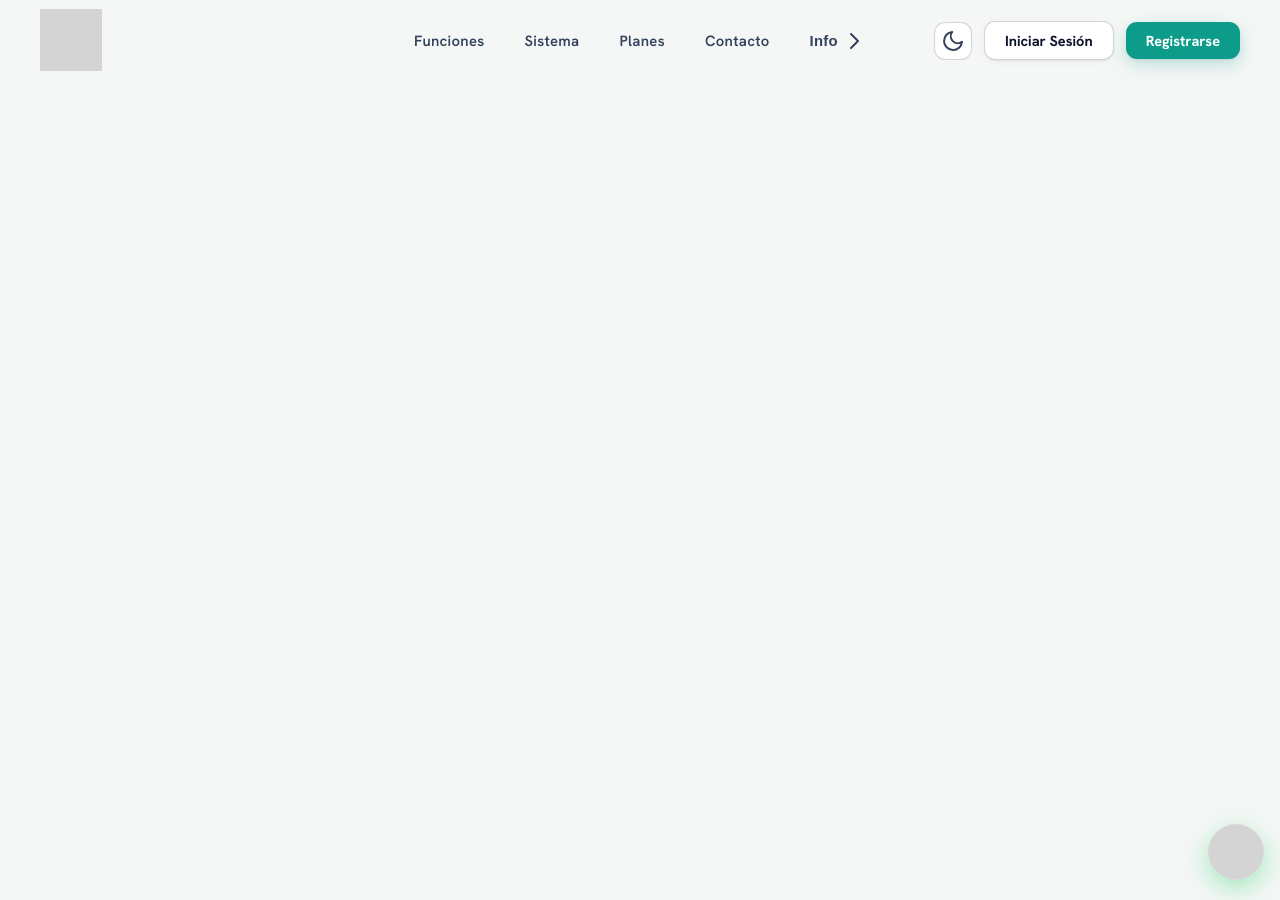
Test: LandingPage › shows login modal when clicking Iniciar Sesión
Click the button "Iniciar Sesión": (1049, 40) [984,21,1114,60]
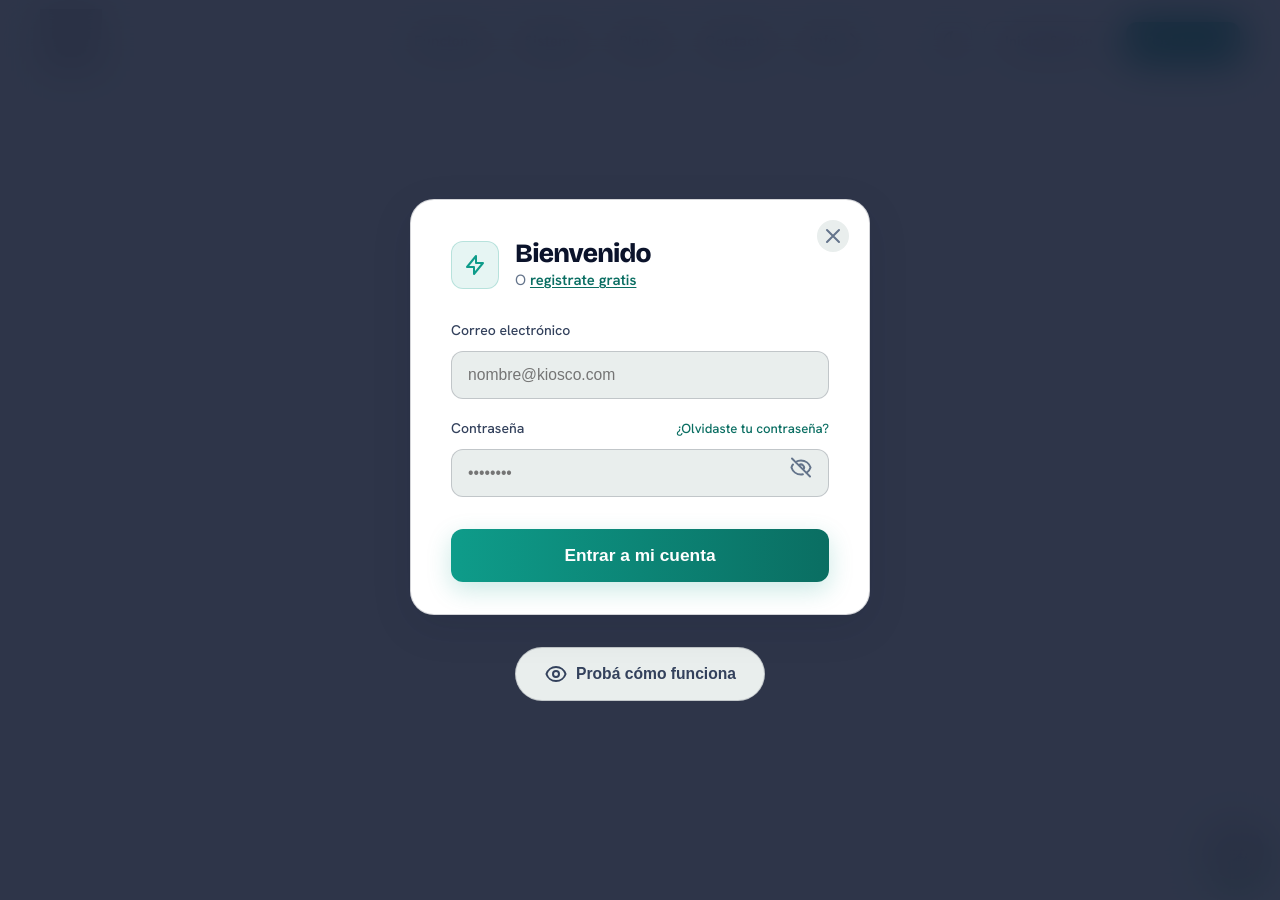
Now the heading "Bienvenido" is shown, box [515,240,651,266]
